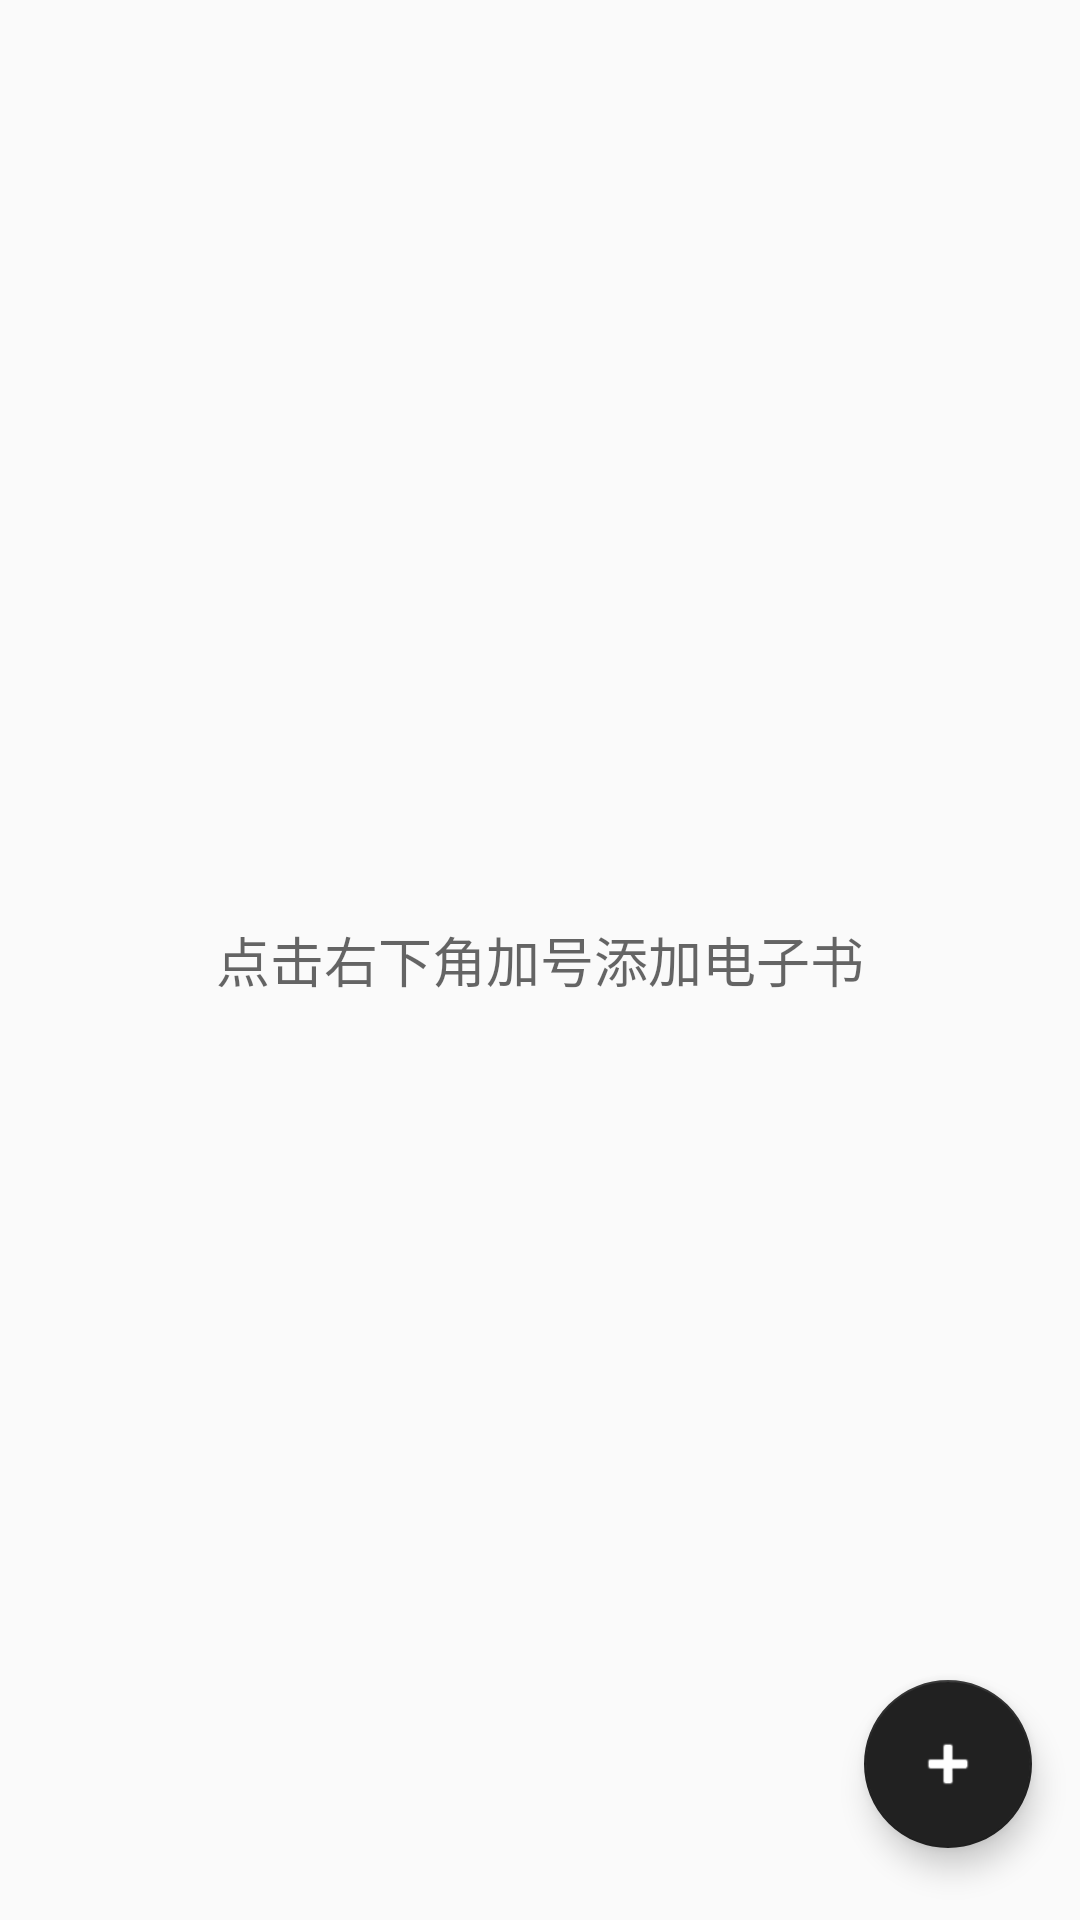

Named icons in this screenshot (1080 x 1920) and their bounding boxes, (x1, y1, x2, y2):
add: (864, 1680, 1032, 1848)
